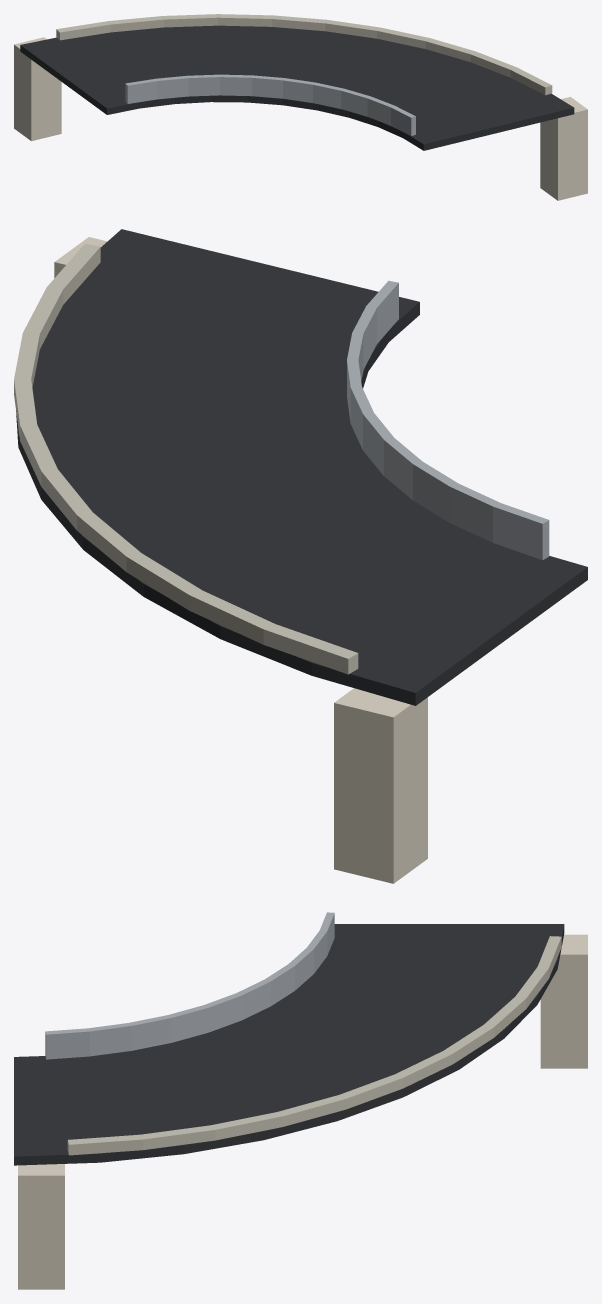
Rendered from road.flyover-ramp.glb.
3 views of the same model, one above another, from view 1: azimuth 30°, elevation 25°; view 2: azimuth 150°, elevation 25°; view 3: azimuth 270°, elevation 25° (orthographic). The views are drawn at different scales.
Parts seen in each view (by area): view 1: road.flyover-ramp; view 2: road.flyover-ramp; view 3: road.flyover-ramp.
Part boxes in pixels (<box>): road.flyover-ramp: <box>14,14,587,200</box>; road.flyover-ramp: <box>14,229,587,883</box>; road.flyover-ramp: <box>14,912,587,1289</box>.
Bounding box in the file's own units: 14.6 × 4.15 × 14.6.
